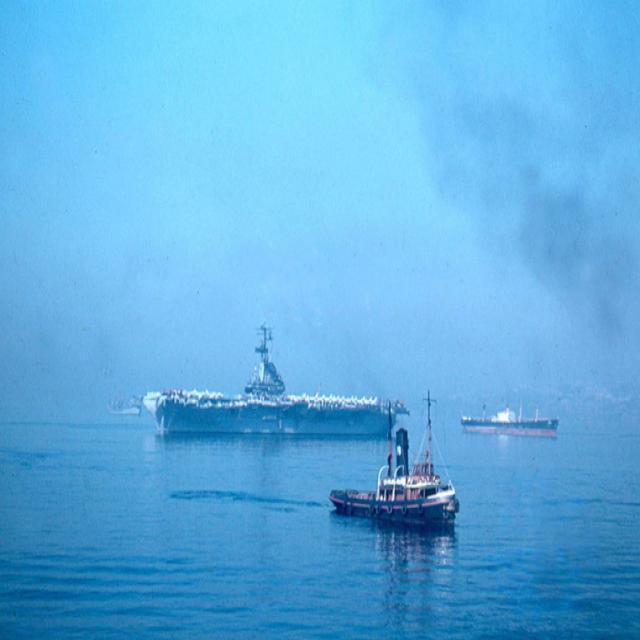Portanaves: (129, 314, 411, 459)
